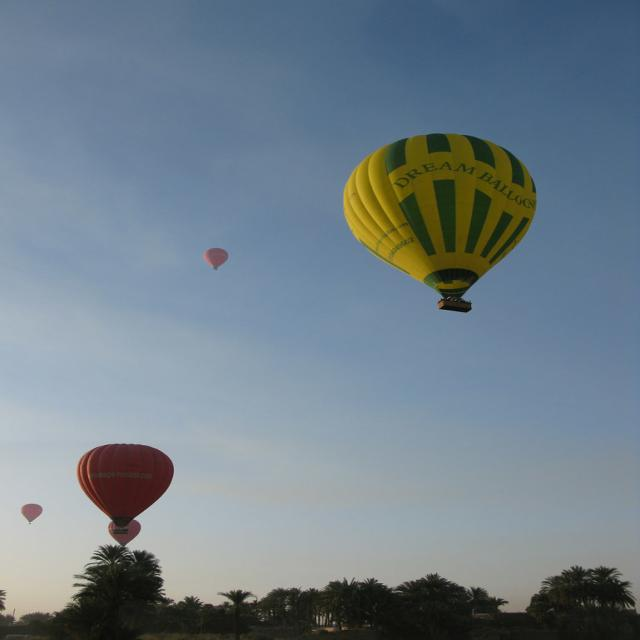balloon: (343, 133, 538, 313), (77, 443, 175, 547), (204, 248, 229, 270), (21, 504, 43, 525)
